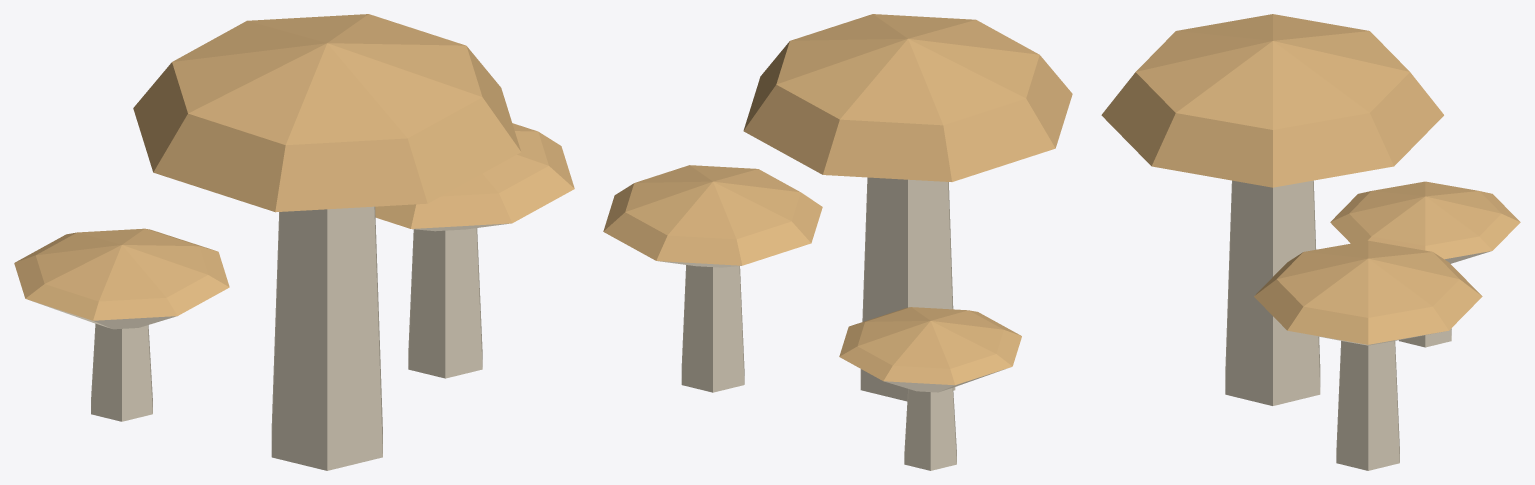
The model's file is mushroom_tanGroup.glb.
The picture shows the model from 3 angles, left to right: view 1: azimuth 30°, elevation 25°; view 2: azimuth 150°, elevation 25°; view 3: azimuth 270°, elevation 25°; orthographic projection. The views are drawn at different scales.
Visible parts, largest first — view 1: mushroom_tanGroup; view 2: mushroom_tanGroup; view 3: mushroom_tanGroup.
Part boxes in pixels (box(x1,y1,x2,y2)): mushroom_tanGroup: box(14, 14, 574, 470); mushroom_tanGroup: box(603, 14, 1072, 470); mushroom_tanGroup: box(1101, 14, 1520, 470).
Size of the model in its own units: 0.26 by 0.198 by 0.22.
Materials: 1 (1 with a texture image).
